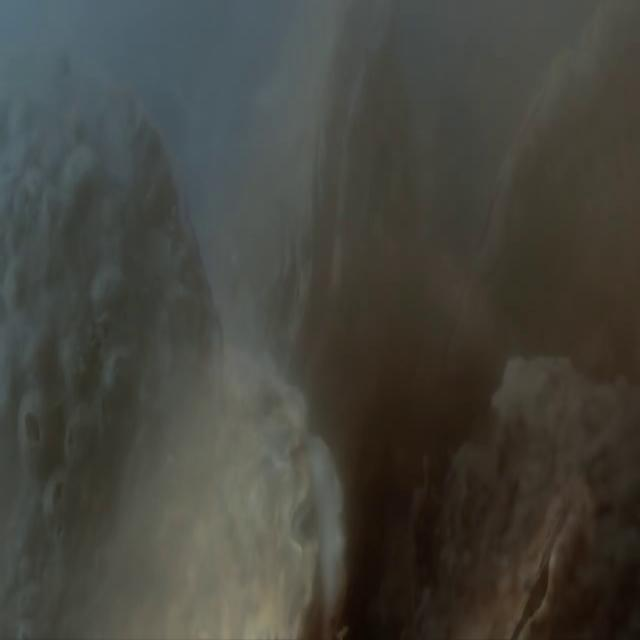Oyster-Closed: (93, 351, 322, 639), (487, 473, 590, 635)
Oyster-Indeterminate: (0, 51, 223, 639), (416, 355, 640, 639)
